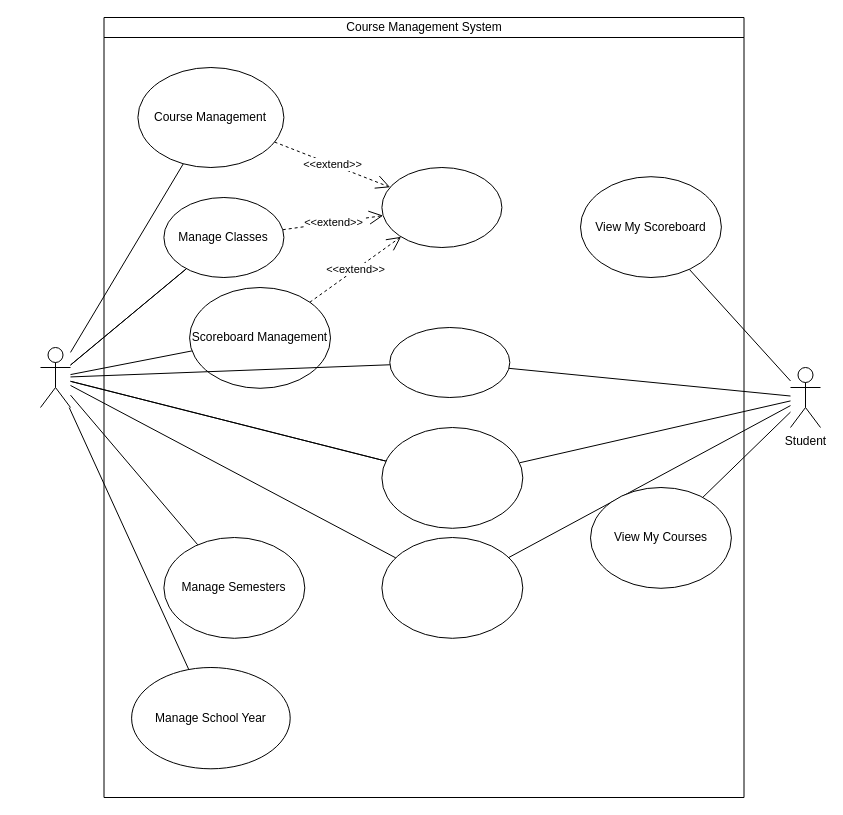
Image size: 843x815. Some labels were removed from this diagram. The shapes that lost their labels are listed below. From the top down, each one's centre as x and y in pixels, then its label:
At (x=441, y=207): "CSV Handling".
At (x=55, y=377): "AcademicStaff".
At (x=449, y=362): "Change Password".
At (x=452, y=477): "View Profile".
At (x=452, y=587): "Login/ Logout".
